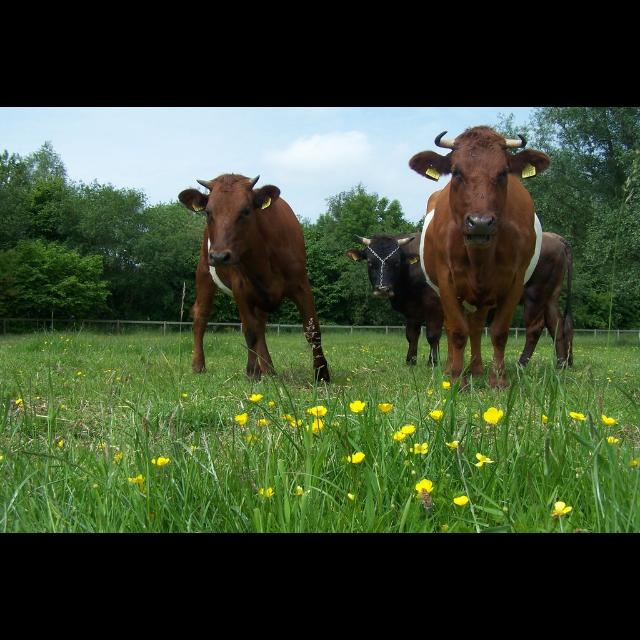Flower: (127, 474, 149, 494), (481, 408, 505, 426), (548, 501, 572, 519), (415, 476, 435, 494), (308, 416, 324, 434), (151, 454, 173, 466), (308, 405, 330, 417), (477, 455, 493, 469), (410, 442, 426, 454), (428, 409, 444, 421), (233, 412, 247, 424), (348, 454, 364, 464), (250, 392, 264, 402), (398, 423, 414, 431), (261, 488, 275, 497), (380, 401, 392, 411), (455, 496, 467, 506), (571, 412, 583, 422), (602, 414, 614, 424), (352, 400, 362, 410), (391, 432, 403, 438), (442, 379, 450, 388)
